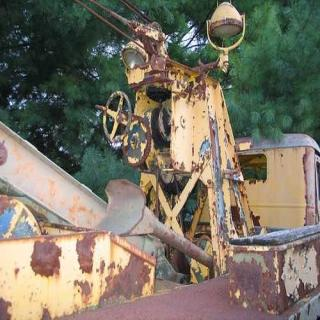Towing_truck: (1, 5, 318, 318)
